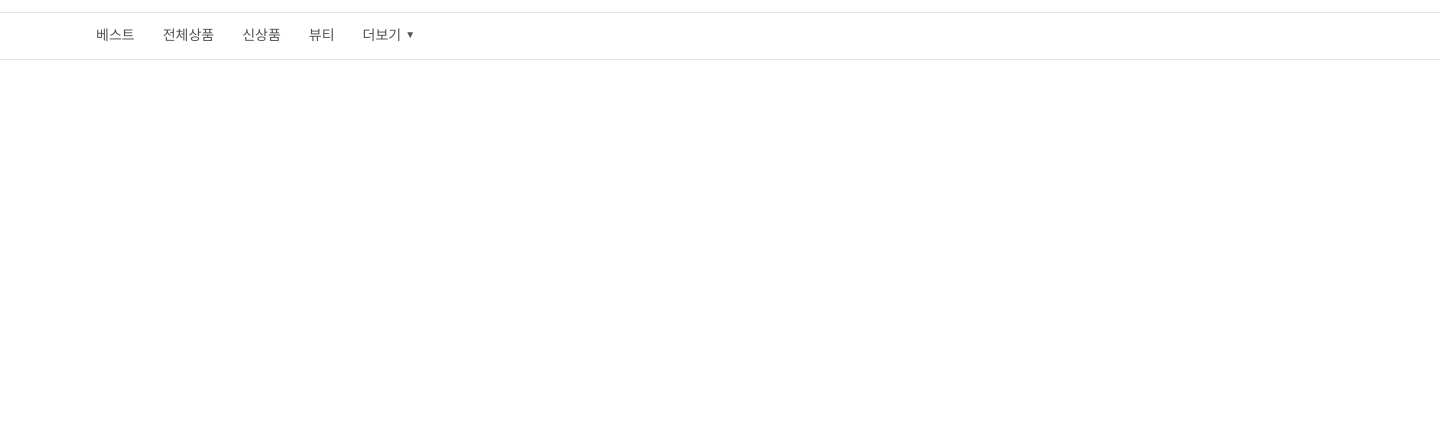
MainMenu › 성공: 더보기를 누르면 열리고 Escape로 닫히며 포커스가 버튼으로 돌아간다
Click the button "더보기 ▼" at (389, 36), box x1=363 y1=13 x2=415 y2=59
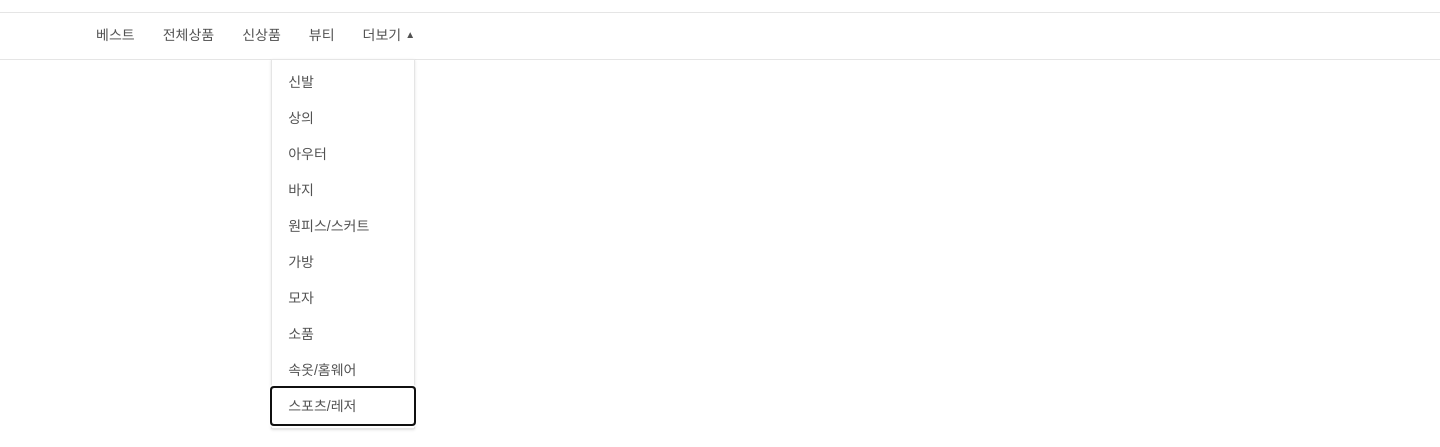
Press Escape
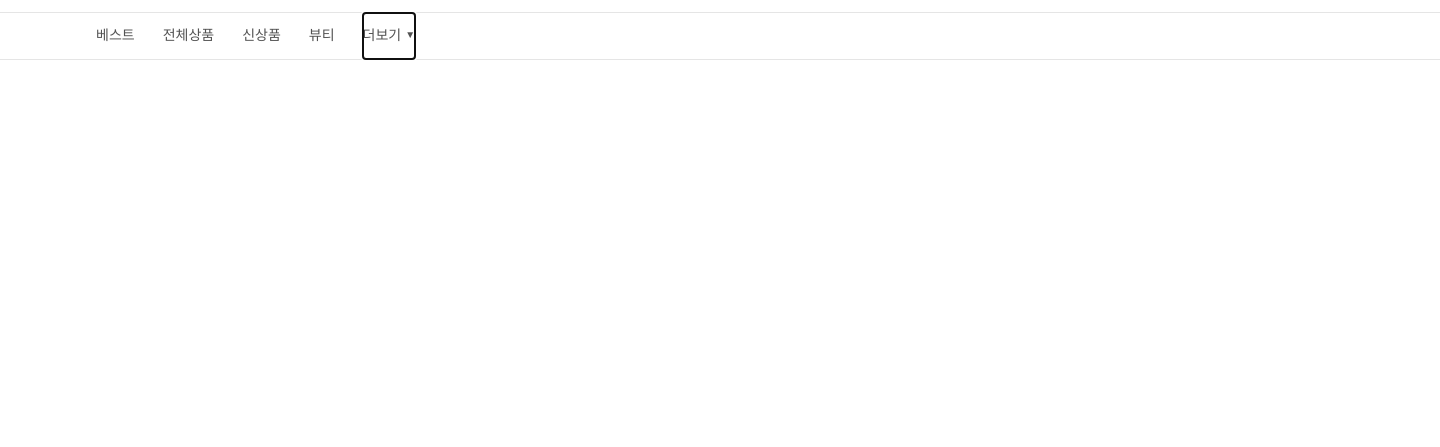
Check: the link "스포츠/레저" is gone
